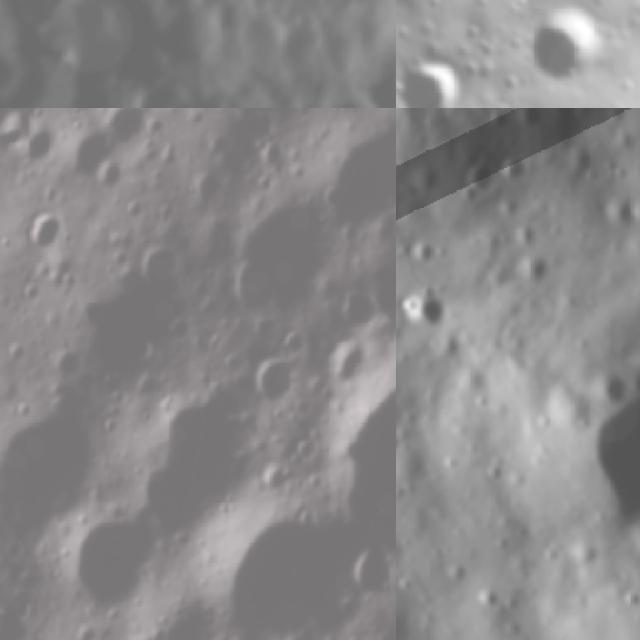crater: (198, 487, 377, 640), (396, 2, 640, 108), (305, 321, 396, 577), (32, 486, 176, 628), (204, 188, 333, 335), (550, 349, 640, 547), (0, 400, 114, 553), (294, 108, 396, 247), (508, 0, 621, 100), (125, 232, 194, 306), (338, 532, 396, 612), (396, 50, 471, 108), (245, 349, 305, 413), (10, 201, 69, 264), (326, 283, 382, 342), (404, 282, 463, 338), (452, 151, 507, 209), (17, 117, 70, 176), (84, 108, 155, 149), (84, 152, 132, 201), (248, 453, 296, 502), (494, 144, 534, 190), (467, 577, 508, 617), (440, 558, 469, 590), (516, 108, 550, 135), (483, 109, 512, 138)
